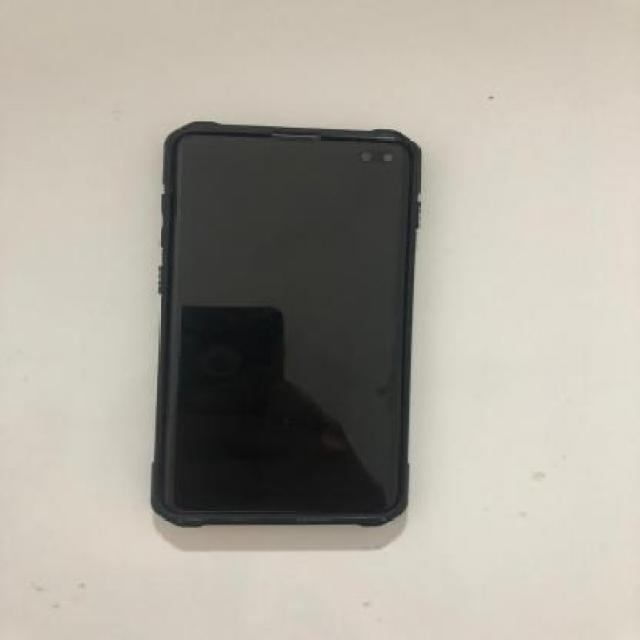phone: (145, 120, 413, 528)
